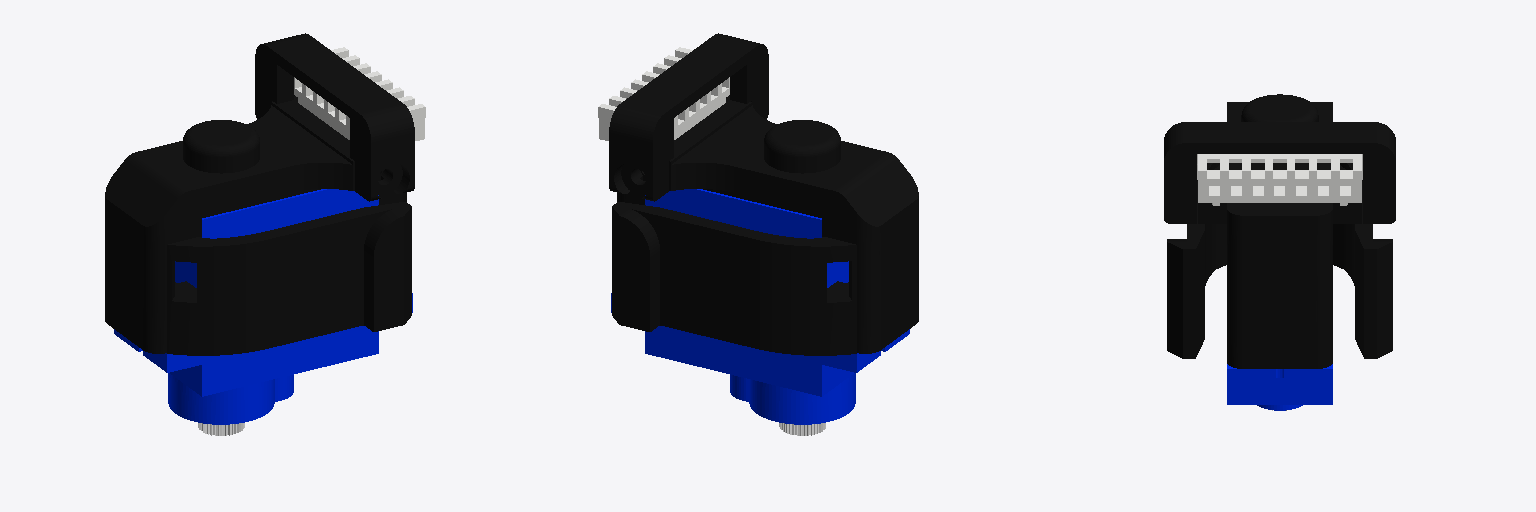
File: ConnectorWithServo.obj
The picture shows the model from 3 angles: view 1: azimuth 30°, elevation 25°; view 2: azimuth 150°, elevation 25°; view 3: azimuth 270°, elevation 25°; orthographic projection.
Visible parts, largest first — view 1: ServoHolder, Body1, ConnectorHolder, Body1:1; view 2: ServoHolder, Body1, ConnectorHolder, Body1:1; view 3: ServoHolder, ConnectorHolder, Body1:1, Body1.
Part boxes in pixels (x1,y1,x2,y2): ServoHolder: (105, 96, 411, 355); Body1: (114, 189, 412, 424); ConnectorHolder: (255, 33, 414, 201); Body1:1: (294, 47, 425, 140); ServoHolder: (612, 96, 918, 355); Body1: (611, 189, 909, 424); ConnectorHolder: (609, 33, 768, 201); Body1:1: (598, 47, 729, 140); ServoHolder: (1167, 94, 1392, 368); ConnectorHolder: (1164, 122, 1395, 223); Body1:1: (1197, 154, 1362, 205); Body1: (1227, 364, 1332, 410).
Bounding box in the file's own units: 0.034 × 0.0403 × 0.0262.